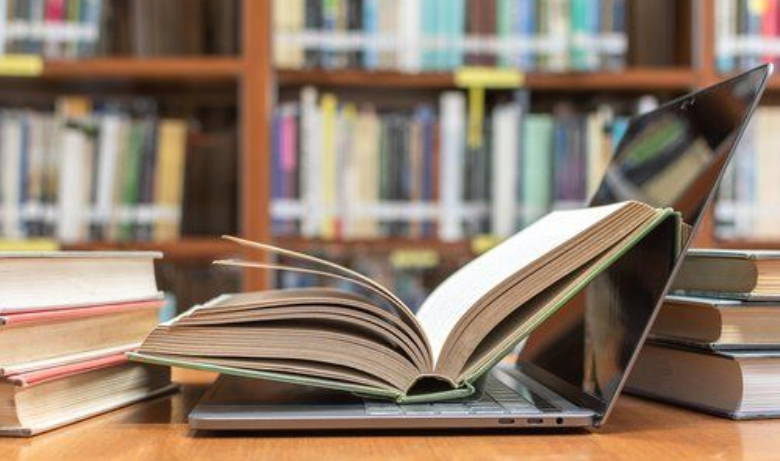book: (131, 198, 679, 405)
